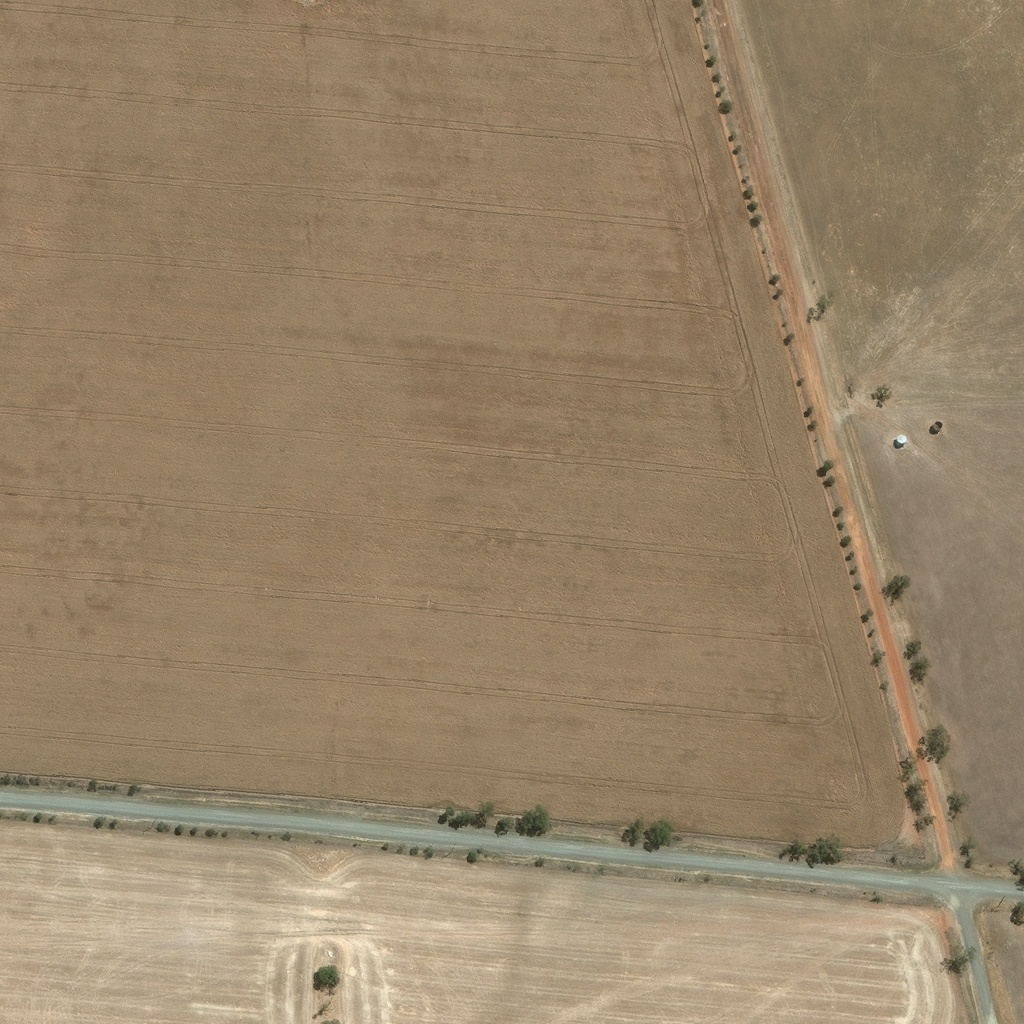4 un-classified: (897, 433, 908, 445)
